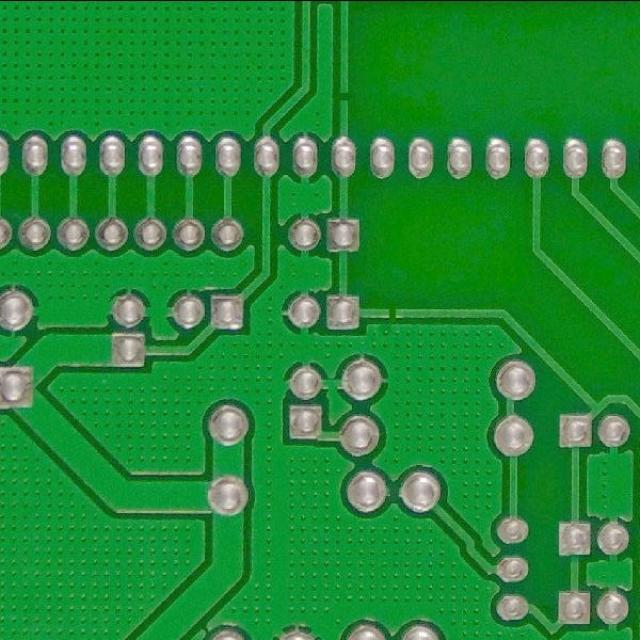open_circuit: (382, 302, 402, 321), (337, 88, 354, 106)
